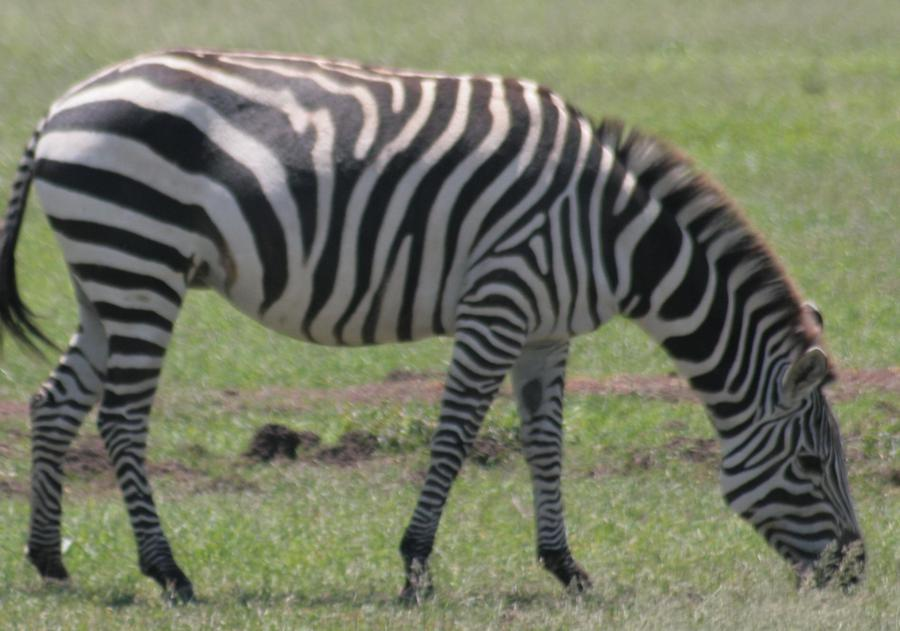zebra_plains: (35, 42, 594, 331)
